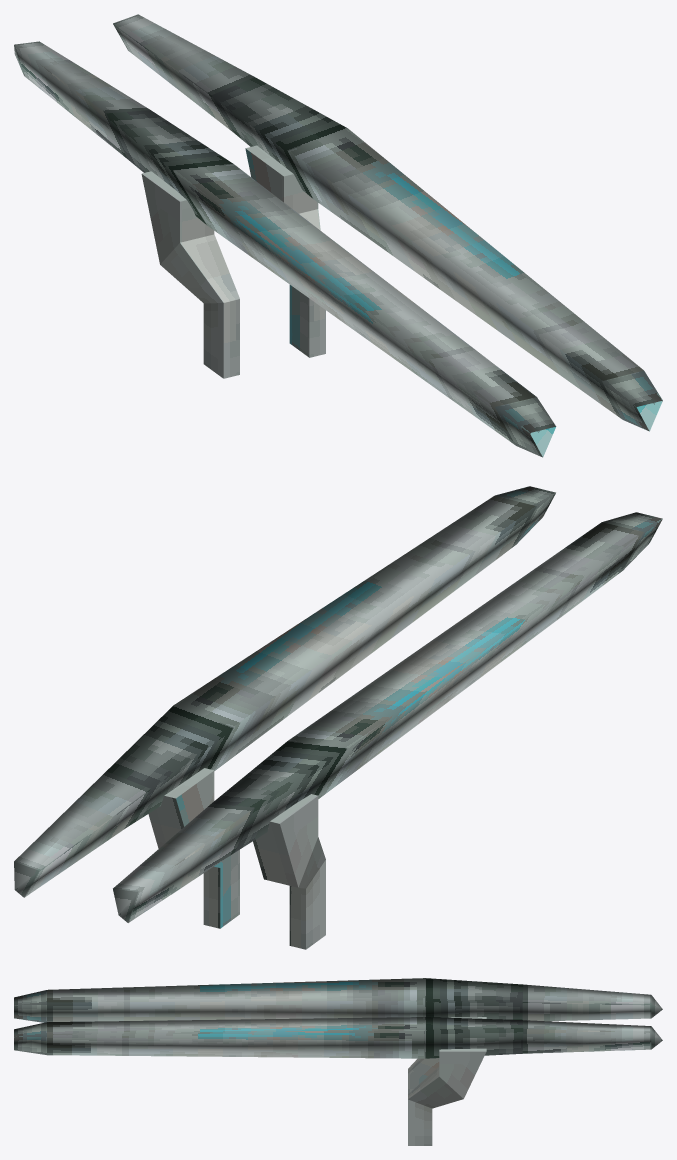
The model's file is ywing_weapon2_s02_l3.fbx.
The picture shows the model from 3 angles, top to bottom: view 1: azimuth 30°, elevation 25°; view 2: azimuth 150°, elevation 25°; view 3: azimuth 270°, elevation 25°; orthographic projection. The views are drawn at different scales.
Parts seen in each view (by area): view 1: mesh_node; view 2: mesh_node; view 3: mesh_node.
Part boxes in pixels (x1,y1,x2,y2): mesh_node: [14, 14, 662, 457]; mesh_node: [14, 486, 662, 949]; mesh_node: [14, 978, 662, 1145].
Bounding box in the file's own units: 0.5056 × 0.5715 × 2.66.
1 material, 1 textured.
